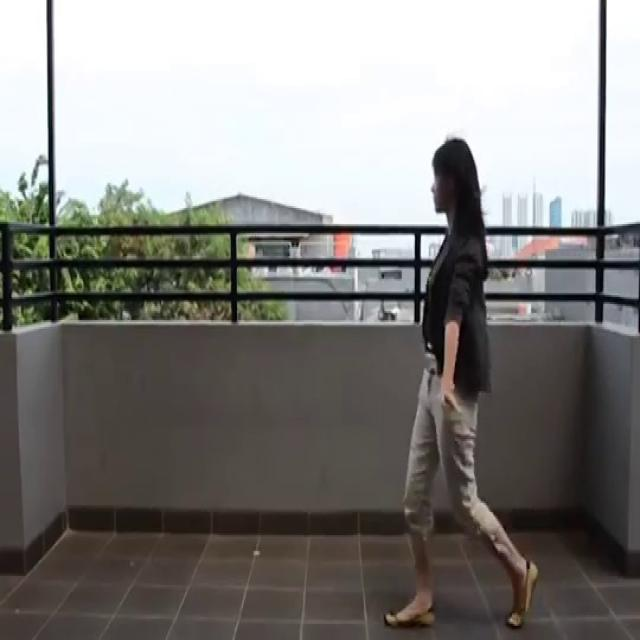normal: (379, 130, 548, 640)
